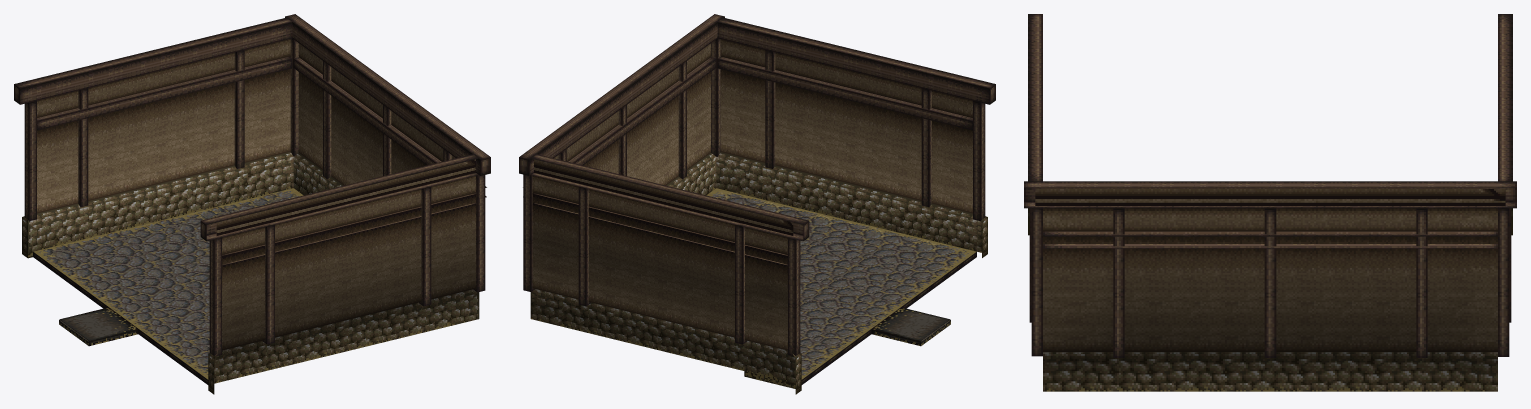
Rendered from EnvBdgMD_Desert_B_Indoor_House_A.FBX.
3 renders of one model, left to right at view 1: azimuth 30°, elevation 25°; view 2: azimuth 150°, elevation 25°; view 3: azimuth 270°, elevation 25°, orthographic. The views are drawn at different scales.
Visible parts, largest first — view 1: EnvBdgMD_Desert_B_Indoor_House_A; view 2: EnvBdgMD_Desert_B_Indoor_House_A; view 3: EnvBdgMD_Desert_B_Indoor_House_A.
Part boxes in pixels (x1,y1,x2,y2): EnvBdgMD_Desert_B_Indoor_House_A: (14,14,490,394); EnvBdgMD_Desert_B_Indoor_House_A: (519,14,995,394); EnvBdgMD_Desert_B_Indoor_House_A: (1024,14,1516,391).
Bounding box in the file's own units: 1240 × 630 × 1300.
